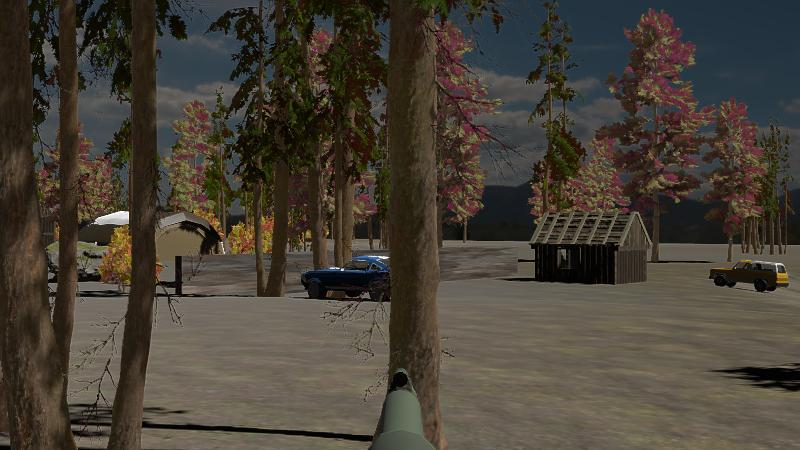House: (529, 206, 652, 284)
car: (299, 255, 396, 302), (707, 258, 789, 294)
